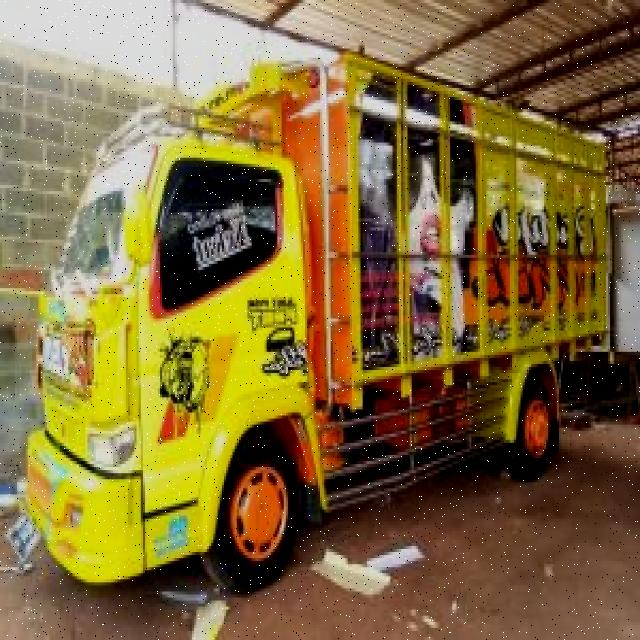truck: (21, 48, 616, 594)
